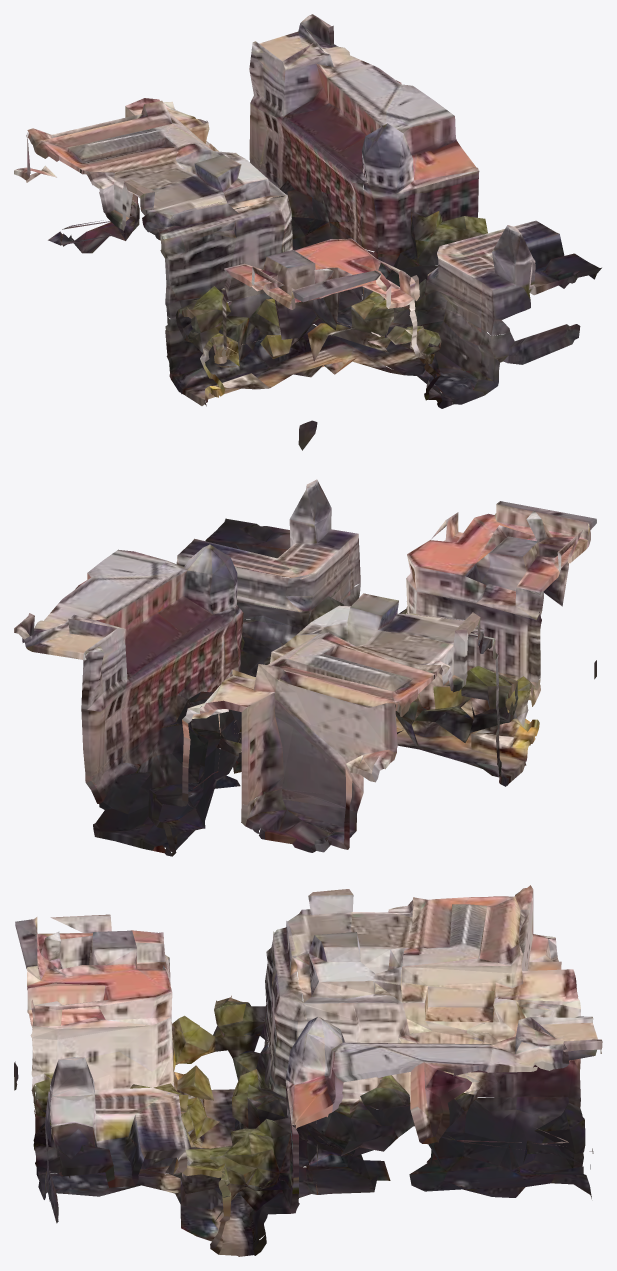
The picture shows the model from 3 angles, top to bottom: view 1: azimuth 30°, elevation 25°; view 2: azimuth 150°, elevation 25°; view 3: azimuth 270°, elevation 25°; orthographic projection. The views are drawn at different scales.
Visible parts, largest first — view 1: Mesh_0; view 2: Mesh_0; view 3: Mesh_0.
Boxes of the visible parts, x1,y1,x2,y2 form: Mesh_0: [14, 14, 601, 450]; Mesh_0: [14, 479, 596, 856]; Mesh_0: [14, 885, 602, 1256].
Bounding box in the file's own units: 66.6 × 33.33 × 82.62.
1 material, 1 textured.
